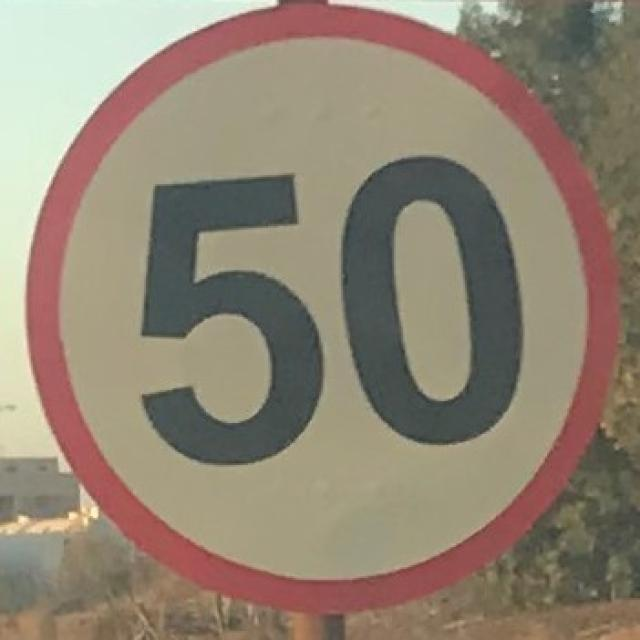Limite-50: (24, 4, 623, 614)
